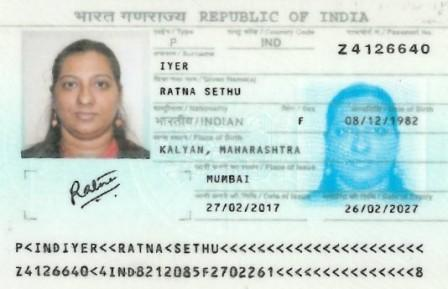DOB: (342, 114, 420, 127)
Surname: (156, 58, 194, 72)
country_code: (257, 36, 284, 50)
date_of_expiry: (342, 201, 420, 214)
date_of_issue: (202, 202, 283, 216)
details: (7, 234, 430, 284)
name: (156, 84, 243, 97)
nationality: (154, 112, 248, 129)
passport_no: (335, 40, 433, 58)
photo: (20, 31, 150, 157)
place_of_birth: (157, 141, 303, 158)
place_of_issue: (203, 172, 252, 185)
sex: (293, 115, 308, 126)
sign: (57, 169, 135, 208)
type: (163, 35, 182, 49)
